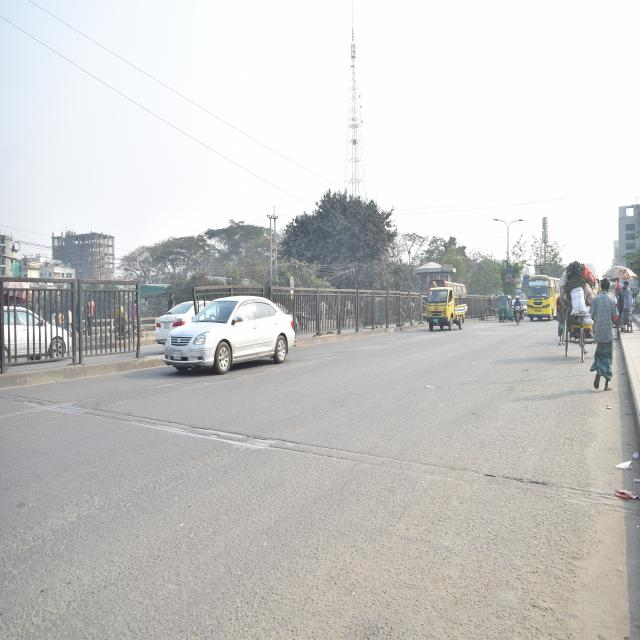bus: (526, 275, 560, 326)
car: (157, 290, 300, 384)
motorbike: (511, 298, 524, 330)
pickup-van: (421, 274, 471, 337)
